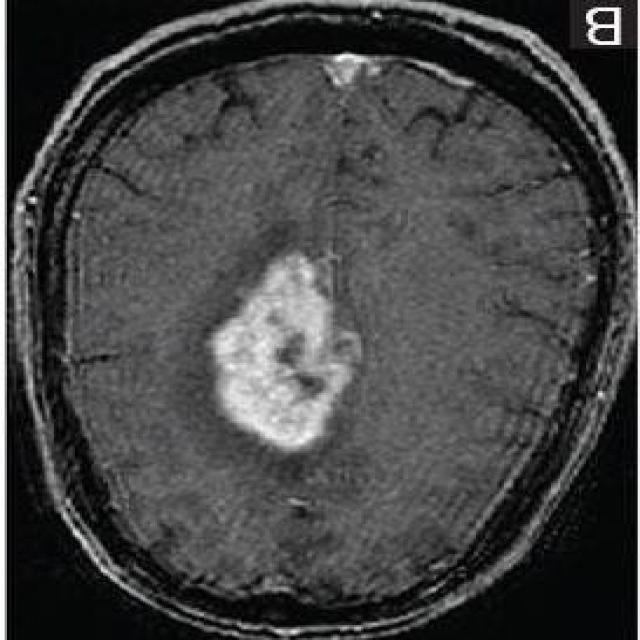Tumor-Cell: (216, 264, 374, 446)
